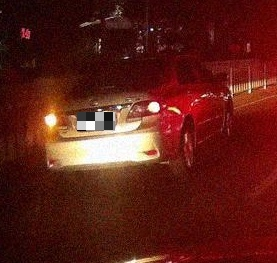L_light: (43, 114, 68, 127)
R_light: (125, 99, 167, 122)
T_light: (99, 62, 118, 66)
night-no: (42, 57, 175, 181)
plate_1: (77, 112, 115, 131)
